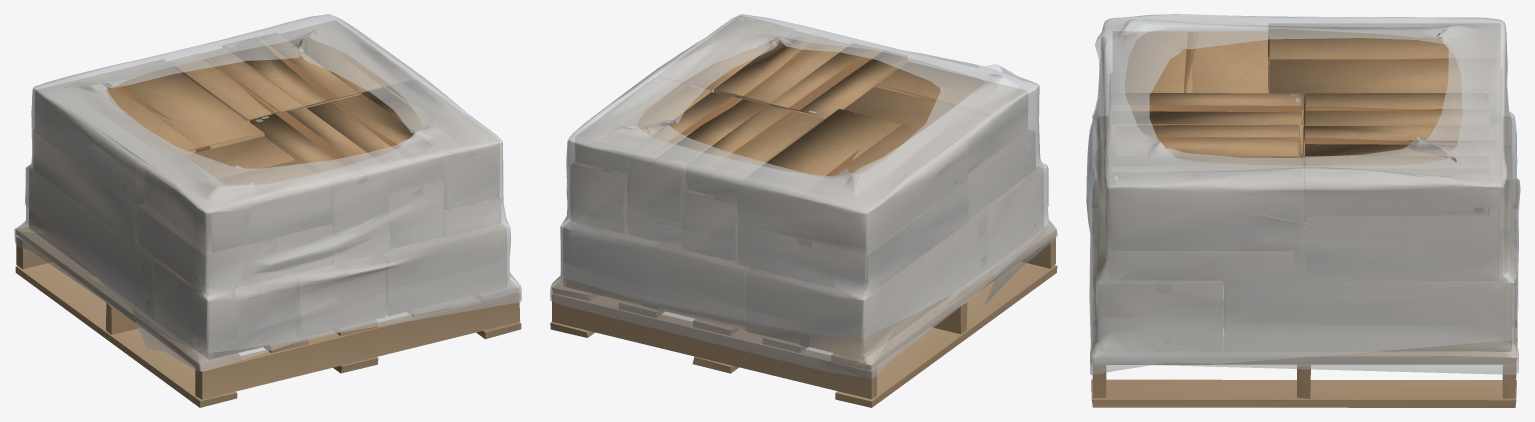
File: pallet_wrapped_hero.glb
3 renders of one model, left to right at view 1: azimuth 30°, elevation 25°; view 2: azimuth 150°, elevation 25°; view 3: azimuth 270°, elevation 25°, orthographic. The views are drawn at different scales.
Parts seen in each view (by area): view 1: body; view 2: body; view 3: body.
Part boxes in pixels (x1,y1,x2,y2): body: (14, 14, 521, 407); body: (550, 14, 1057, 407); body: (1086, 14, 1520, 407).
Bounding box in the file's own units: 0.9063 × 0.5374 × 0.9165.
3 materials, 1 textured.
